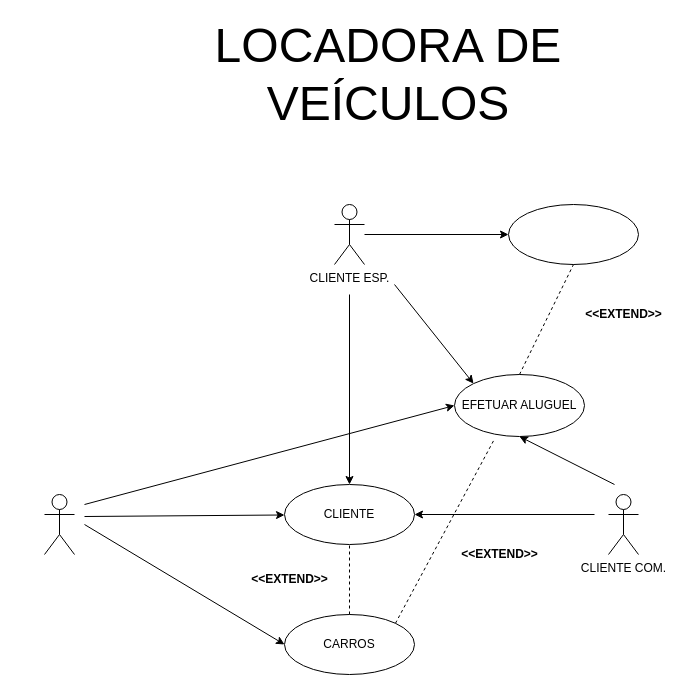
The diagram is 686 pixels wide and 692 high, and some of its shapes have lost their labels. The shapes that lost their labels are listed below. From the top down, each one's box as (x1, y1, x2, y2) in pixels, then its label:
(508, 204, 638, 264): DESCONTO
(44, 494, 74, 554): FUNCIONÁRIO
